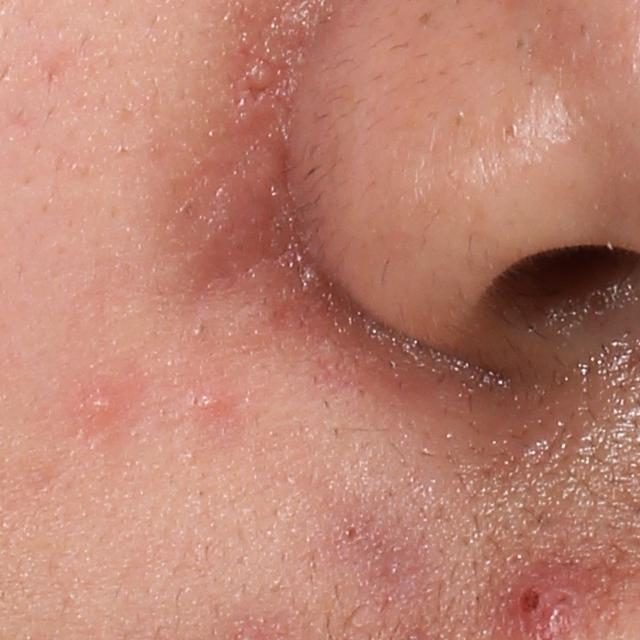comedo: (336, 522, 366, 549), (500, 118, 520, 140)
papule: (82, 386, 121, 420), (185, 386, 226, 416)
